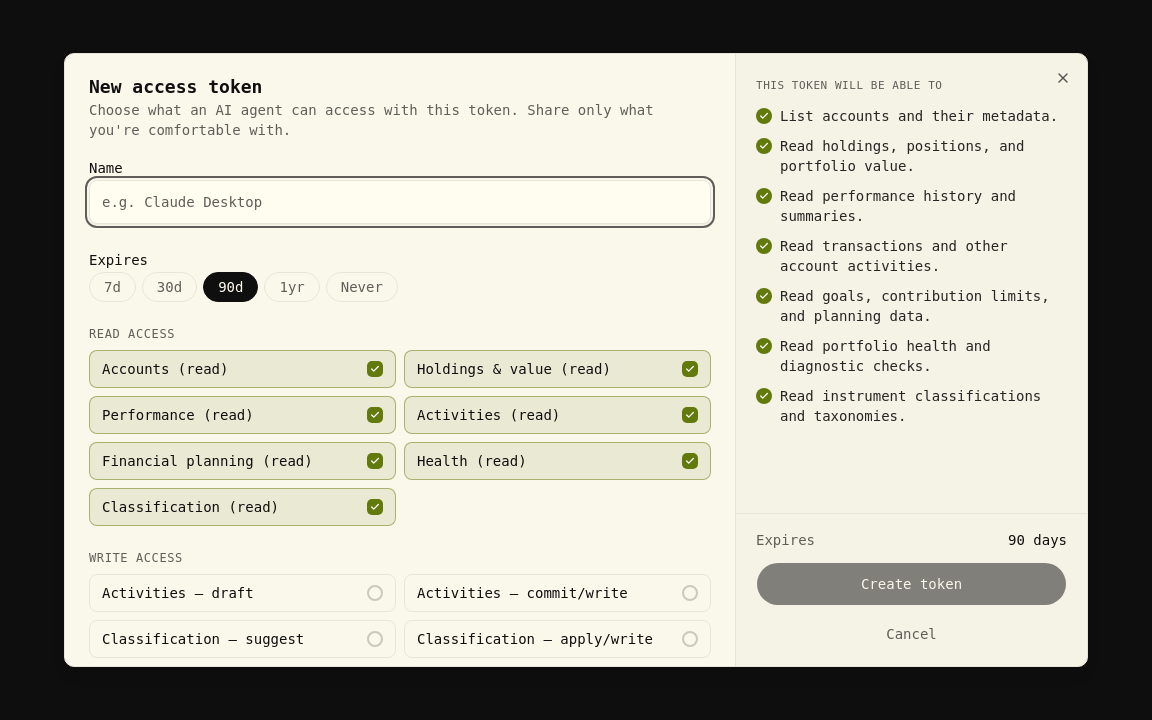
PatCreateDialog client config › shows the Claude Code command for the new token, and Codex TOML on request
In the field labelled "Name": coordinates (400, 202) 89,180 -> 711,224, type "Claude"
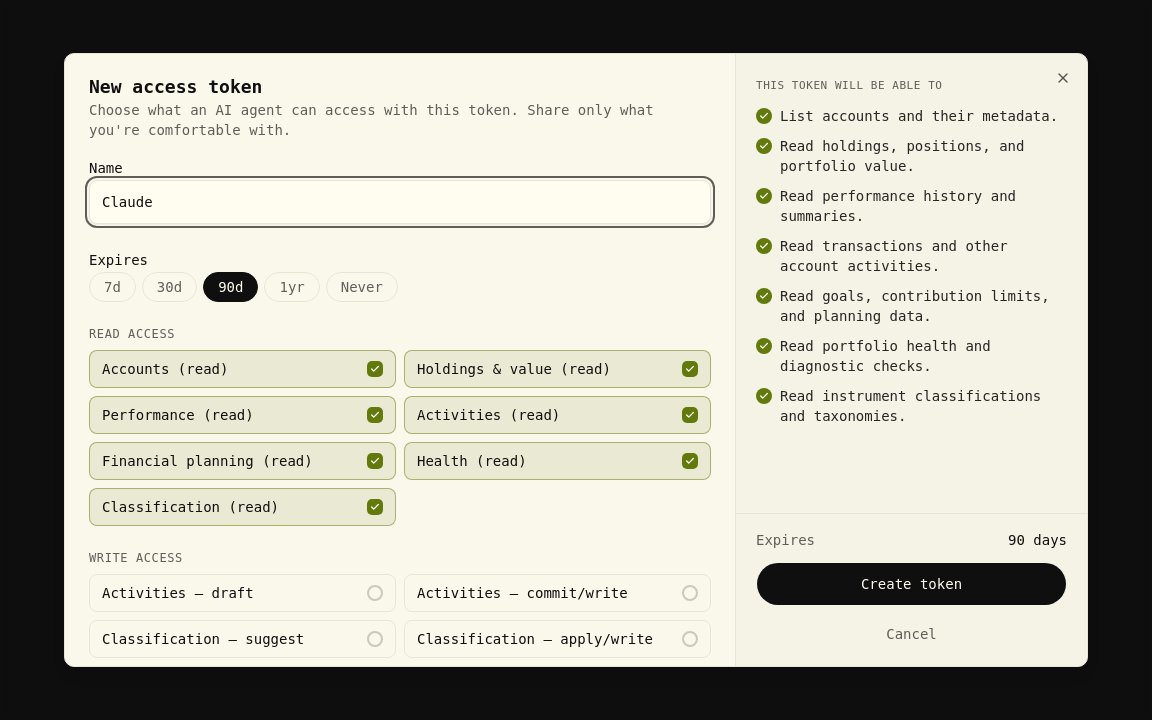
Click the button "Create token": coordinates (912, 584) 756,562 -> 1067,606
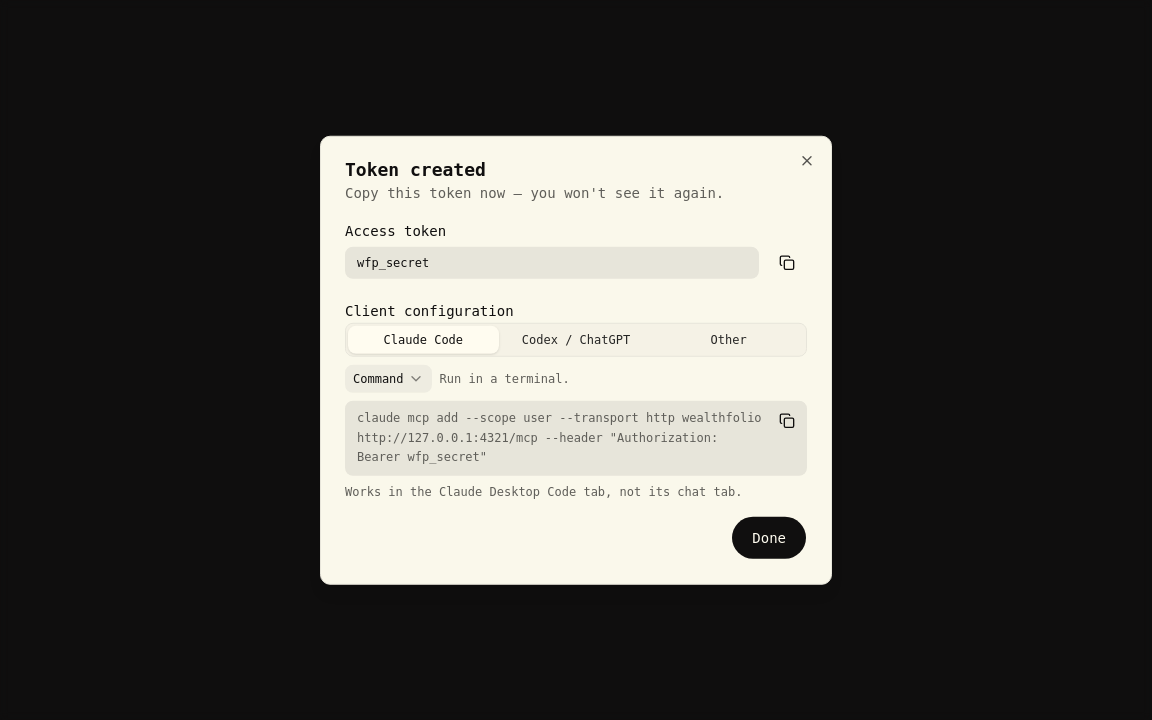
Now the text "claude mcp add --scope user --transport http wealthfolio http://127.0.0.1:4321/mcp --header \"Authorization: Bearer wfp_s" is shown, box 357,411 -> 769,464
Click the button "Codex / ChatGPT": coordinates (576, 340) 501,326 -> 651,354
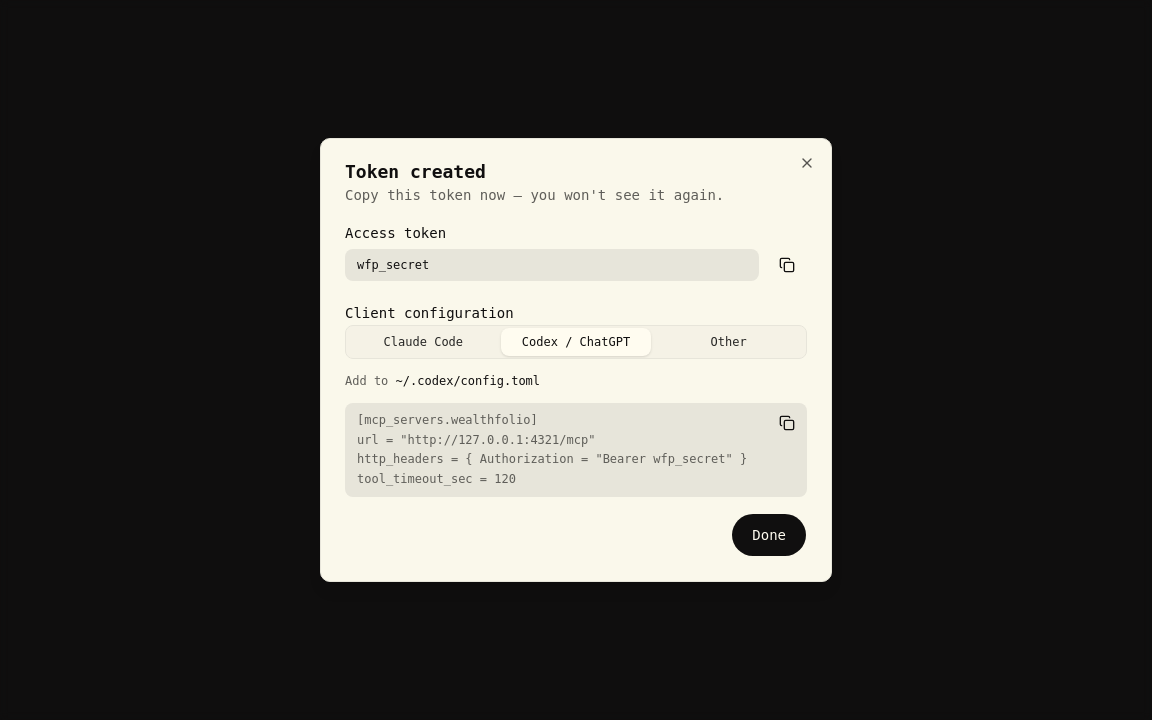
Now the text "[mcp_servers.wealthfolio]" shows "http_headers = { Authorization = \"Bearer wfp_secret\" }", box 357,413 -> 747,486
